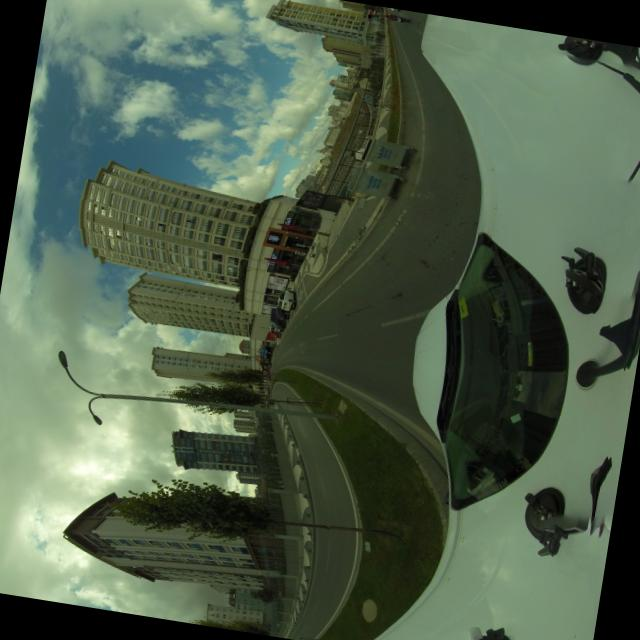SignStore: (368, 14, 372, 18)
